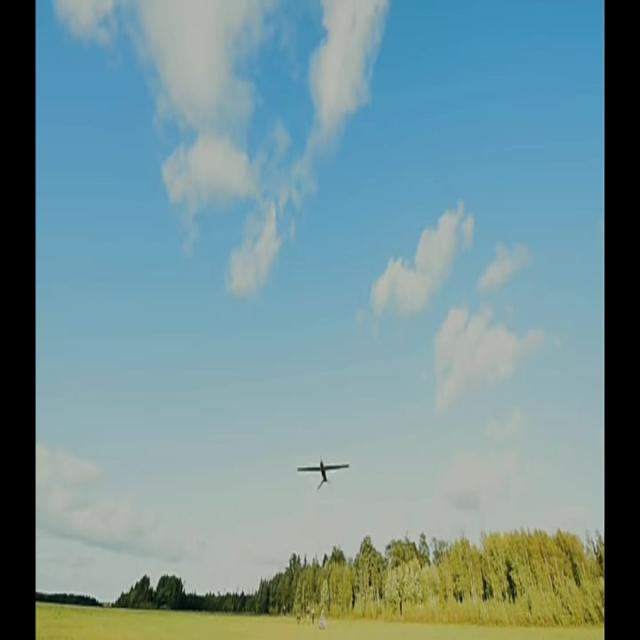iha: (297, 454, 350, 492)
